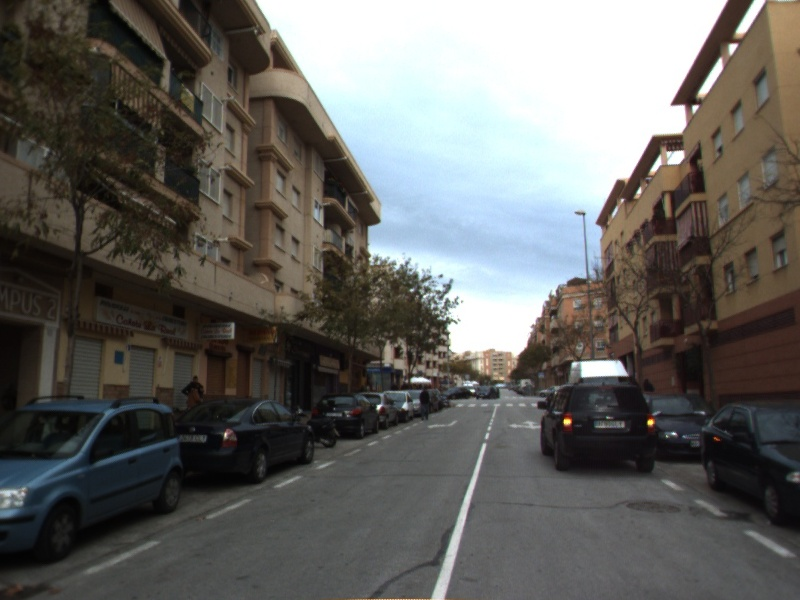STRAIGHT_LEFT: (505, 417, 543, 431)
